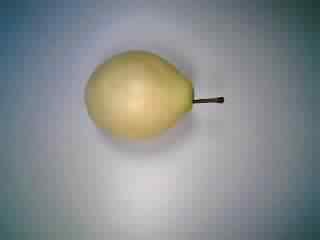pear: (77, 46, 228, 148)
